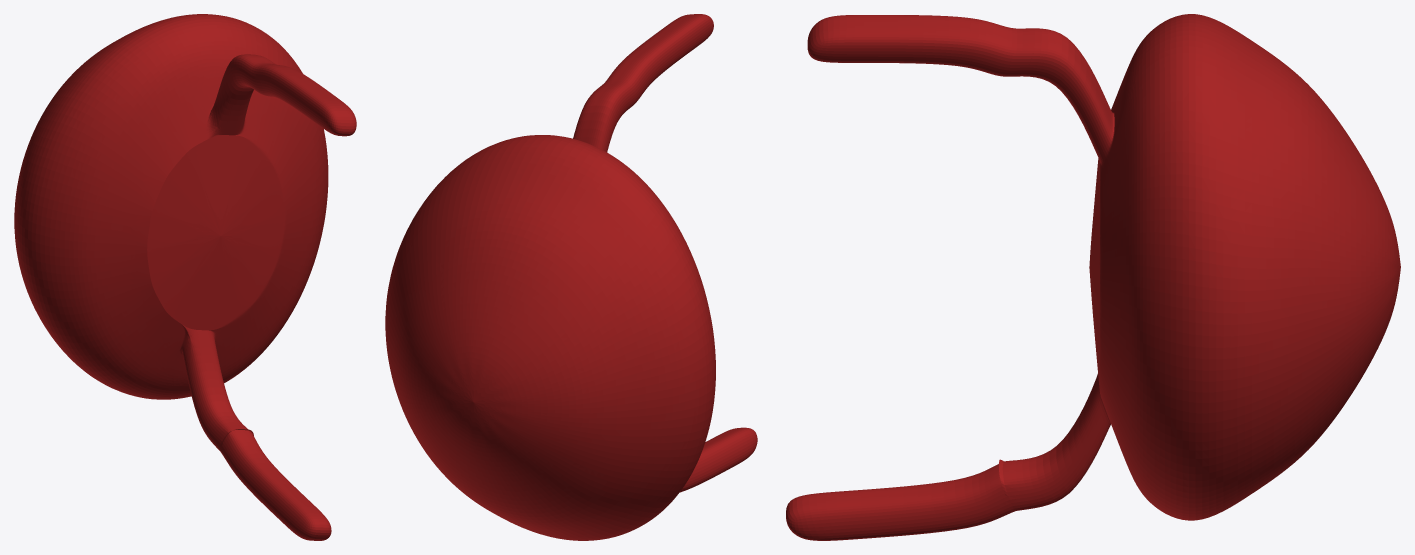
The model's file is vejiga.fbx.
3 views of the same model, side by side, from view 1: azimuth 30°, elevation 25°; view 2: azimuth 150°, elevation 25°; view 3: azimuth 270°, elevation 25° (orthographic). The views are drawn at different scales.
Visible parts, largest first — view 1: Sphere_001; view 2: Sphere_001; view 3: Sphere_001.
Part boxes in pixels (x1,y1,x2,y2): Sphere_001: (14, 14, 356, 540); Sphere_001: (385, 14, 757, 540); Sphere_001: (786, 14, 1400, 540).
Size of the model in its own units: 2.88 by 3.91 by 4.07.
